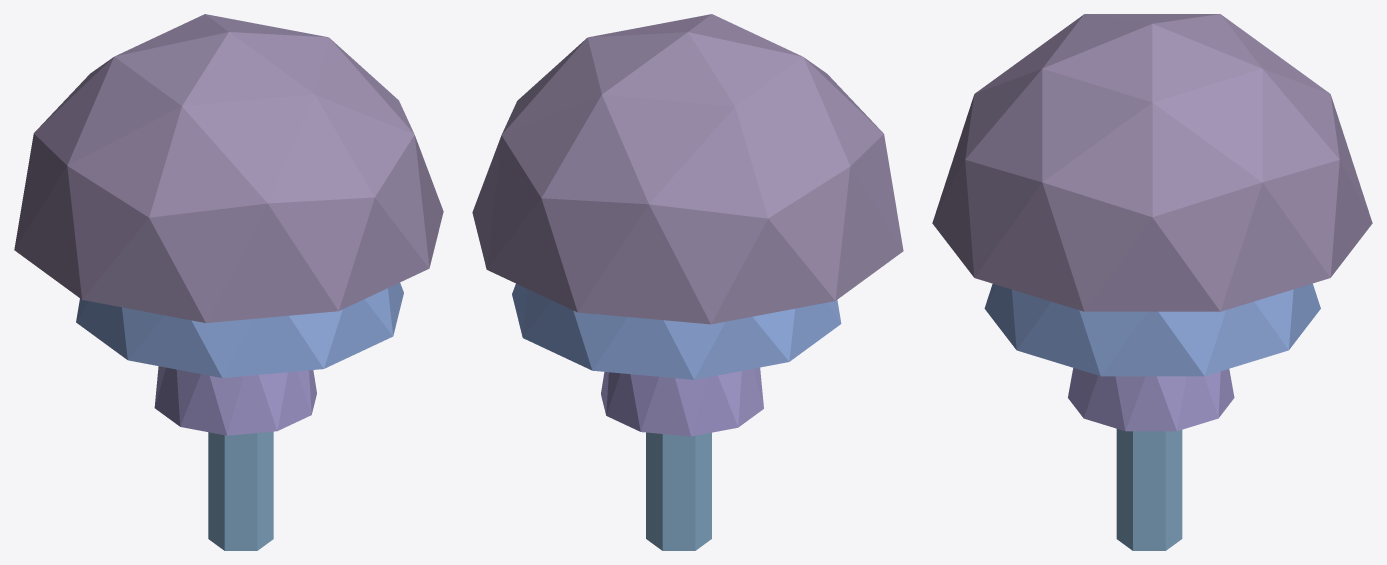
The model's file is arvore_1.glb.
3 views of the same model, side by side, from view 1: azimuth 30°, elevation 25°; view 2: azimuth 150°, elevation 25°; view 3: azimuth 270°, elevation 25° (orthographic).
Parts seen in each view (by area): view 1: Icosphere.002; view 2: Icosphere.002; view 3: Icosphere.002.
Boxes of the visible parts, left/top/right/bottom form: Icosphere.002: left=14, top=14, right=443, bottom=550; Icosphere.002: left=472, top=14, right=903, bottom=550; Icosphere.002: left=932, top=14, right=1372, bottom=550.
Size of the model in its own units: 12.74 by 17.12 by 13.4.
